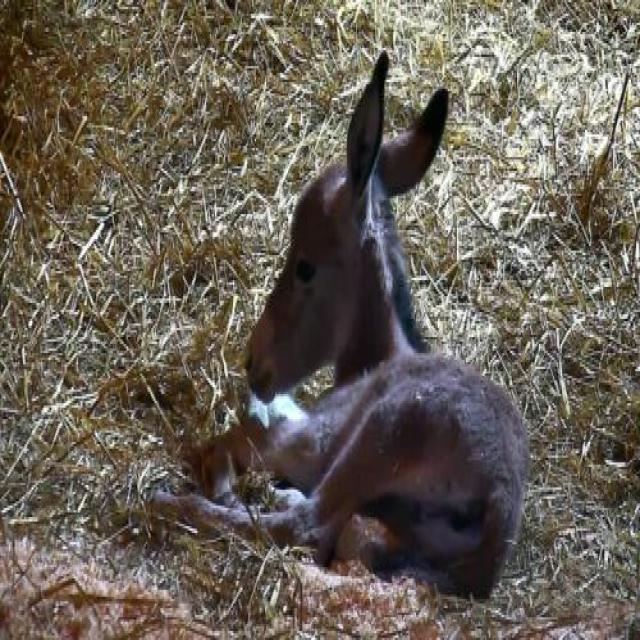Donkey: (149, 52, 530, 600)
